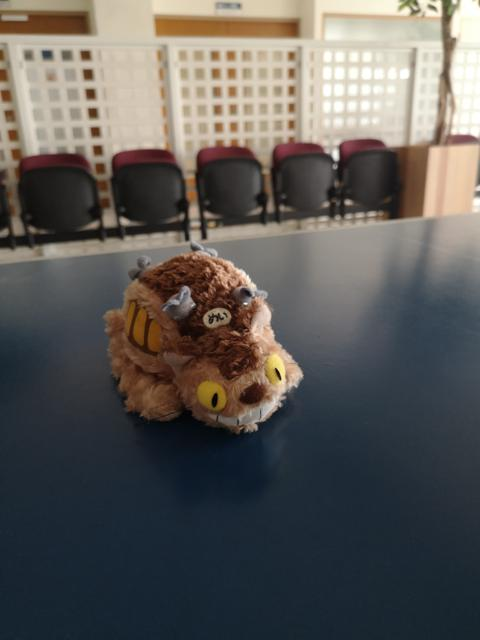nekobus: (99, 239, 307, 439)
